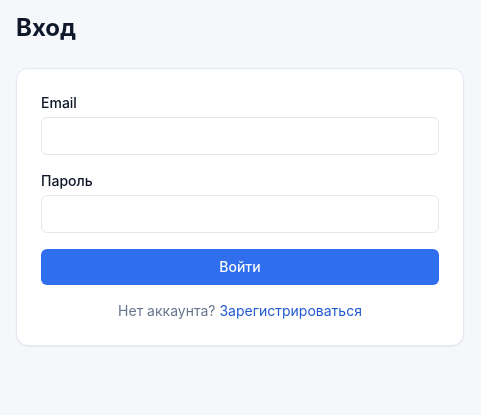
Test: LoginPage › blocks submit with a client-side validation message for a bad email
The width and height of the screenshot is (481, 415).
In the field labelled "Email": (240, 136) top-left (41, 117), bottom-right (439, 155), type "not-an-email"
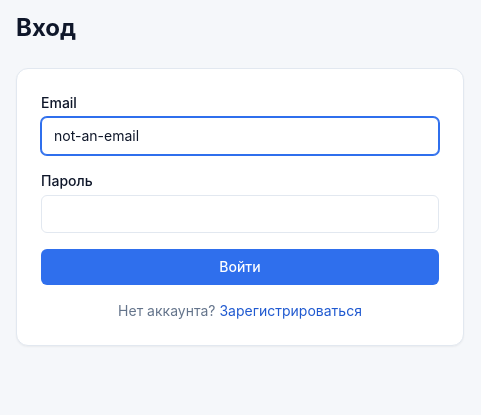
In the password field labelled "Пароль": (240, 214) top-left (41, 195), bottom-right (439, 233), type "Secret123"
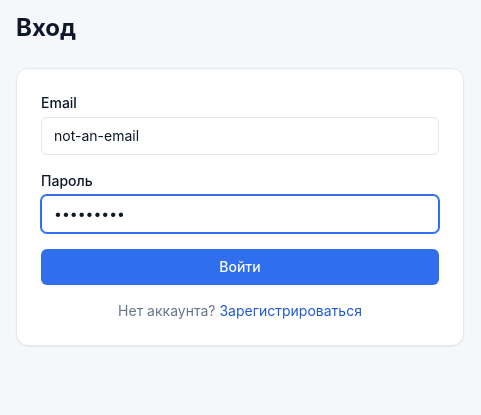
Click the button "Войти": (240, 267) top-left (41, 249), bottom-right (439, 285)
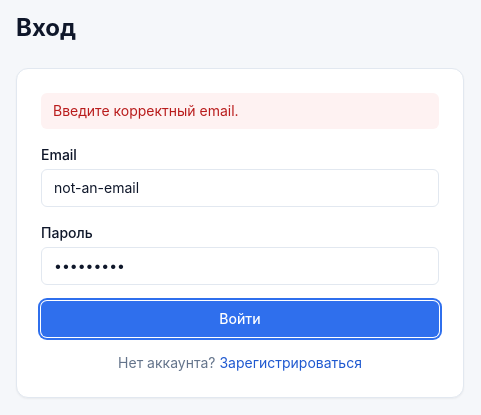
Now the message shows "Введите корректный email", box top-left (53, 102), bottom-right (239, 119)
